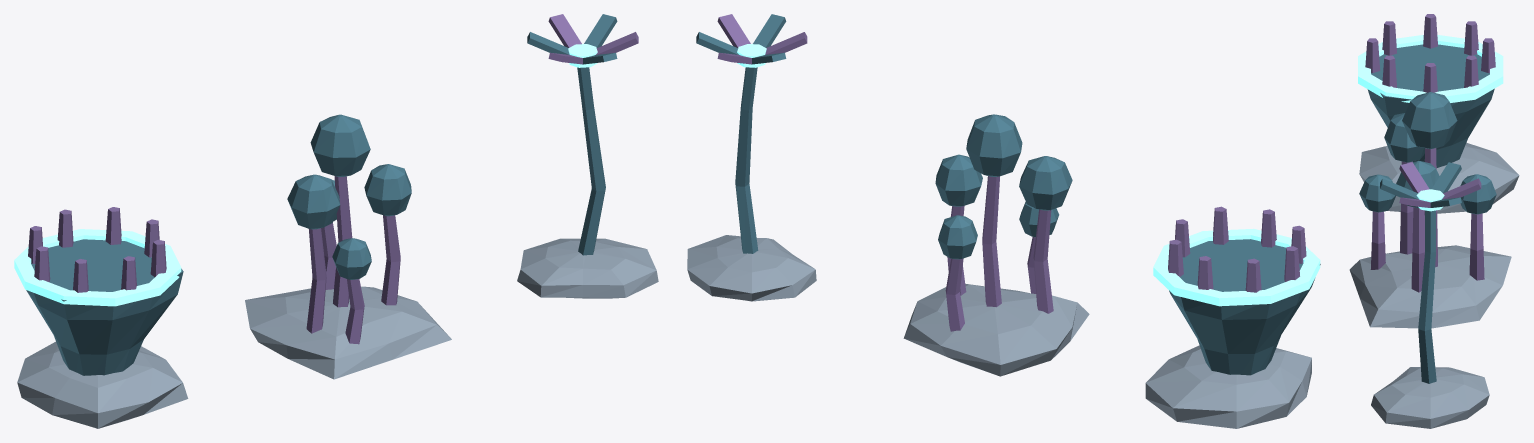
3 views of the same model, side by side, from view 1: azimuth 30°, elevation 25°; view 2: azimuth 150°, elevation 25°; view 3: azimuth 270°, elevation 25° (orthographic). The views are drawn at different scales.
Visible parts, largest first — view 1: DL009_BioluminescentFlora_stone_blue, DL009_BioluminescentFlora_flora_body, DL009_BioluminescentFlora_flora_violet, DL009_BioluminescentFlora_emissive_teal; view 2: DL009_BioluminescentFlora_stone_blue, DL009_BioluminescentFlora_flora_body, DL009_BioluminescentFlora_flora_violet, DL009_BioluminescentFlora_emissive_teal; view 3: DL009_BioluminescentFlora_stone_blue, DL009_BioluminescentFlora_flora_body, DL009_BioluminescentFlora_flora_violet, DL009_BioluminescentFlora_emissive_teal.
Boxes of the visible parts, bbox=[...] form: DL009_BioluminescentFlora_stone_blue: bbox=[17, 238, 658, 428]; DL009_BioluminescentFlora_flora_body: bbox=[26, 14, 617, 375]; DL009_BioluminescentFlora_flora_violet: bbox=[28, 14, 638, 344]; DL009_BioluminescentFlora_emissive_teal: bbox=[14, 44, 597, 306]; DL009_BioluminescentFlora_stone_blue: bbox=[687, 235, 1311, 428]; DL009_BioluminescentFlora_flora_body: bbox=[696, 14, 1320, 375]; DL009_BioluminescentFlora_flora_violet: bbox=[717, 14, 1306, 331]; DL009_BioluminescentFlora_emissive_teal: bbox=[737, 44, 1320, 306]; DL009_BioluminescentFlora_stone_blue: bbox=[1349, 142, 1519, 428]; DL009_BioluminescentFlora_flora_body: bbox=[1359, 44, 1496, 383]; DL009_BioluminescentFlora_flora_violet: bbox=[1365, 14, 1495, 292]; DL009_BioluminescentFlora_emissive_teal: bbox=[1358, 35, 1503, 211].
Bounding box in the file's own units: 5.64 × 2.22 × 1.47.
